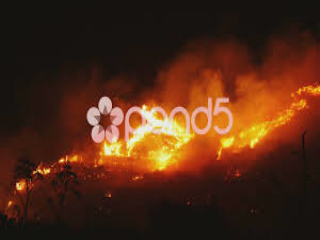fire: (213, 96, 313, 165), (95, 116, 189, 170), (13, 150, 90, 196)
smoke: (146, 47, 256, 101)
